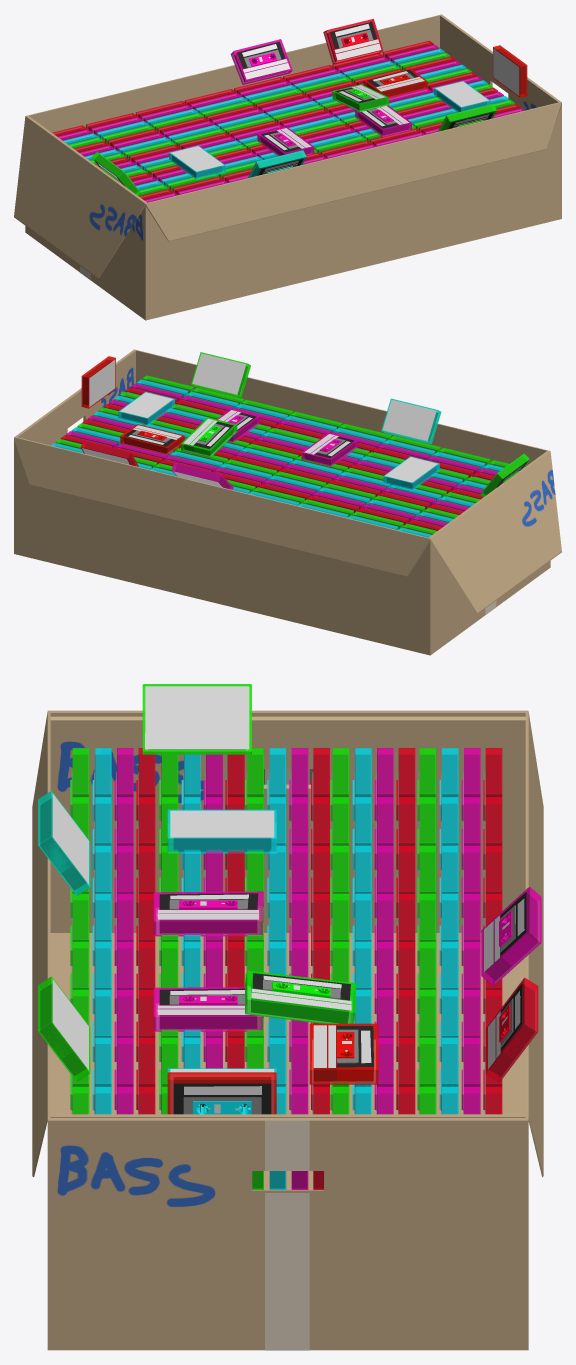
The picture shows the model from 3 angles, top to bottom: view 1: azimuth 30°, elevation 25°; view 2: azimuth 150°, elevation 25°; view 3: azimuth 270°, elevation 25°; orthographic projection. The views are drawn at different scales.
Parts seen in each view (by area): view 1: Caja, Piso De Cassets, Cassete.004, Cassete.002, Cassete.010, Cassete.003, Cassete.011, Cassete.007, Cassete.005, Cassete, Cassete.008, Cassete.009 (+2 smaller); view 2: Caja, Piso De Cassets, Cassete.006, Cassete.009, Cassete.008, Cassete.010, Cassete.011, Cassete, Cassete.005, Cassete.003, Cassete.004, Cassete.002 (+2 smaller); view 3: Caja, Piso De Cassets, Scotch, Cassete.001, Cassete.003, Cassete, Cassete.008, Cassete.010, Cassete.007, Cassete.011, Cassete.004, Cassete.002 (+2 smaller).
Boxes of the visible parts, <box> form: Caja: <box>14,14,561,320</box>; Piso De Cassets: <box>52,40,524,202</box>; Cassete.004: <box>230,39,292,84</box>; Cassete.002: <box>323,19,383,64</box>; Cassete.010: <box>493,45,527,97</box>; Cassete.003: <box>169,145,225,179</box>; Cassete.011: <box>363,68,427,97</box>; Cassete.007: <box>355,105,411,136</box>; Cassete.005: <box>434,81,490,112</box>; Cassete: <box>257,127,314,156</box>; Cassete.008: <box>332,84,389,112</box>; Cassete.009: <box>438,103,496,131</box>; Caja: <box>14,349,561,655</box>; Piso De Cassets: <box>51,375,523,537</box>; Cassete.006: <box>381,398,441,444</box>; Cassete.009: <box>191,352,250,397</box>; Cassete.008: <box>180,417,237,457</box>; Cassete.010: <box>81,356,115,408</box>; Cassete.011: <box>120,424,184,455</box>; Cassete: <box>301,433,358,466</box>; Cassete.005: <box>118,391,174,425</box>; Cassete.003: <box>383,456,439,490</box>; Cassete.004: <box>171,462,233,489</box>; Cassete.002: <box>80,440,138,466</box>; Caja: <box>32,710,543,1350</box>; Piso De Cassets: <box>70,748,502,1189</box>; Scotch: <box>265,769,309,1350</box>; Cassete.001: <box>142,684,251,754</box>; Cassete.003: <box>167,809,276,853</box>; Cassete: <box>153,891,263,936</box>; Cassete.008: <box>245,970,356,1023</box>; Cassete.010: <box>167,1072,276,1114</box>; Cassete.007: <box>153,987,263,1031</box>; Cassete.011: <box>309,1023,378,1084</box>; Cassete.004: <box>481,886,541,986</box>; Cassete.002: <box>485,977,538,1082</box>.
Size of the model in its own units: 337 by 96.08 by 167.
Materials: 862 (1 with a texture image).
